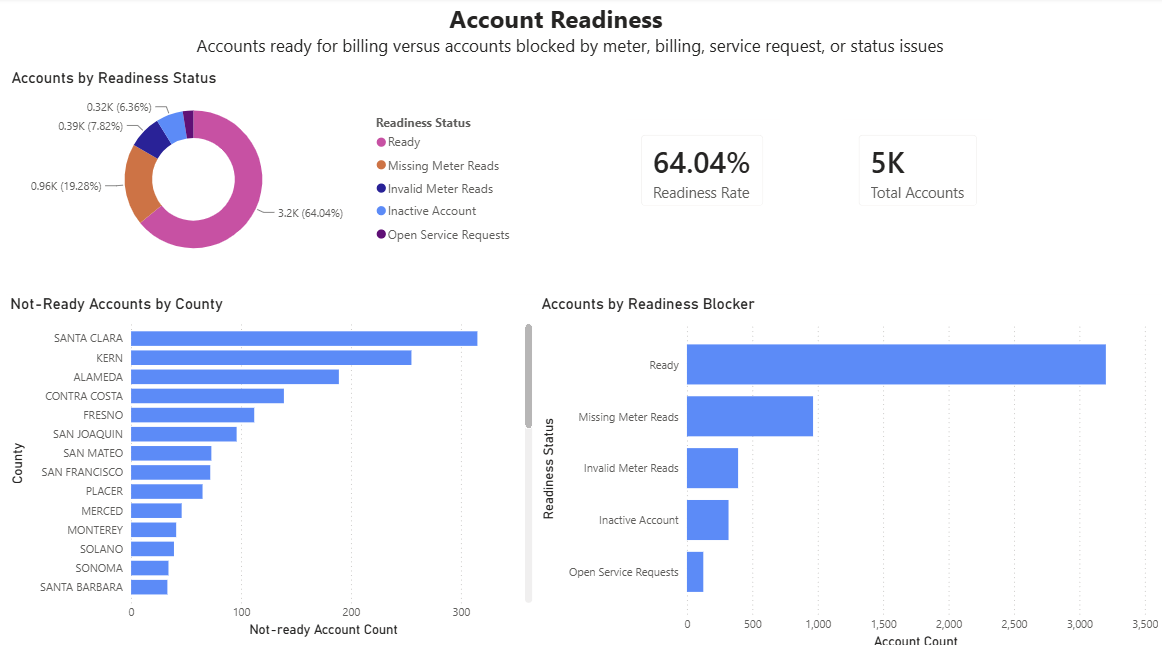

The page's visual inventory and layout, read from the dashboard file:
{"tool":"powerbi","page":{"name":"Account Readiness","canvas":[1280,720],"ordinal":2},"visuals":[{"type":"textbox","box":[9.6,0,1270.7,101.5],"z":0},{"type":"donutChart","title":"Accounts by Readiness Status","fields":{"Category":["Account Readiness.readiness_status"],"Y":["CountNonNull(Account Readiness.account_id)"]},"box":[11,78.2,566.7,225],"z":1000},{"type":"cardVisual","fields":{"Data":["Avg(Account Readiness.readiness_flag)"]},"box":[690.2,134.5,168.8,112.5],"z":2000},{"type":"cardVisual","fields":{"Data":["CountNonNull(Account Readiness.account_id)"]},"box":[929,134.5,164.7,112.5],"z":3000},{"type":"clusteredBarChart","title":"Accounts by Readiness Blocker","fields":{"Category":["Account Readiness.readiness_status"],"Y":["CountNonNull(Account Readiness.account_id)"]},"box":[592.8,326.6,687.5,393.8],"z":4000},{"type":"clusteredBarChart","title":"Not-Ready Accounts by County","fields":{"Category":["Account Readiness.county"],"Y":["CountNonNull(Account Readiness.account_id)"]},"box":[9.6,326.6,583.2,381.5],"z":5000}]}

Visuals, with their boxes in screenshot pixels (x1, y1, x2, y2), scaled from the page's 1280x720 canvas onto the 1162x647 screenshot:
textbox: BBox(9, 0, 1161, 91)
"Accounts by Readiness Status" donutChart: BBox(10, 70, 524, 272)
cardVisual - Avg(Account Readiness.readiness_flag): BBox(627, 121, 780, 222)
cardVisual - CountNonNull(Account Readiness.account_id): BBox(843, 121, 993, 222)
"Accounts by Readiness Blocker" clusteredBarChart: BBox(538, 293, 1161, 646)
"Not-Ready Accounts by County" clusteredBarChart: BBox(9, 293, 538, 636)
